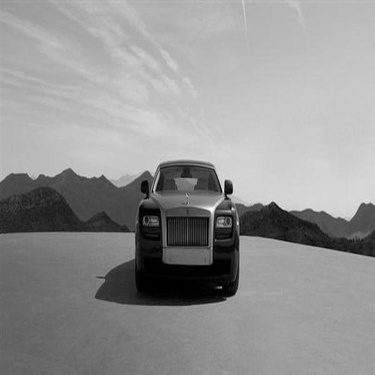car: (127, 146, 252, 300)
